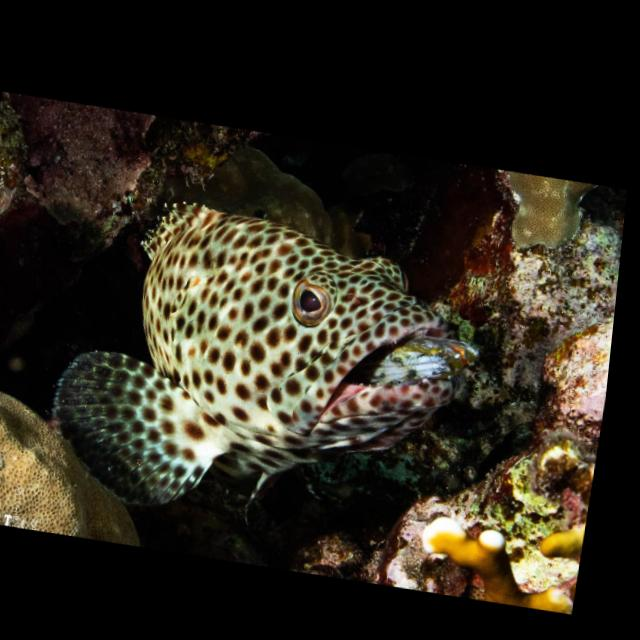Groupers: (31, 180, 498, 554)
